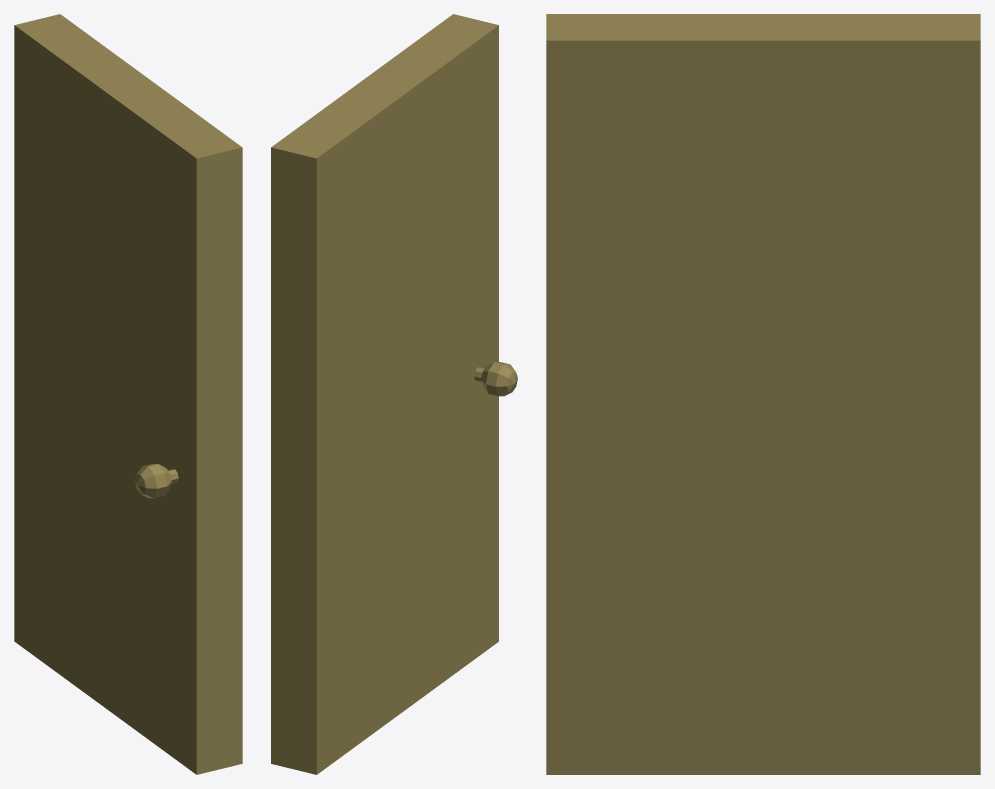
File: door.fbx
3 renders of one model, left to right at view 1: azimuth 30°, elevation 25°; view 2: azimuth 150°, elevation 25°; view 3: azimuth 270°, elevation 25°, orthographic. The views are drawn at different scales.
Parts seen in each view (by area): view 1: pCube1, pSphere1; view 2: pCube1, pSphere1; view 3: pCube1.
Boxes of the visible parts, x1,y1,x2,y2 form: pCube1: [14, 14, 242, 774]; pSphere1: [135, 464, 178, 498]; pCube1: [271, 14, 498, 774]; pSphere1: [474, 362, 517, 396]; pCube1: [546, 14, 980, 774].
Bounding box in the file's own units: 30.07 × 212 × 113.
